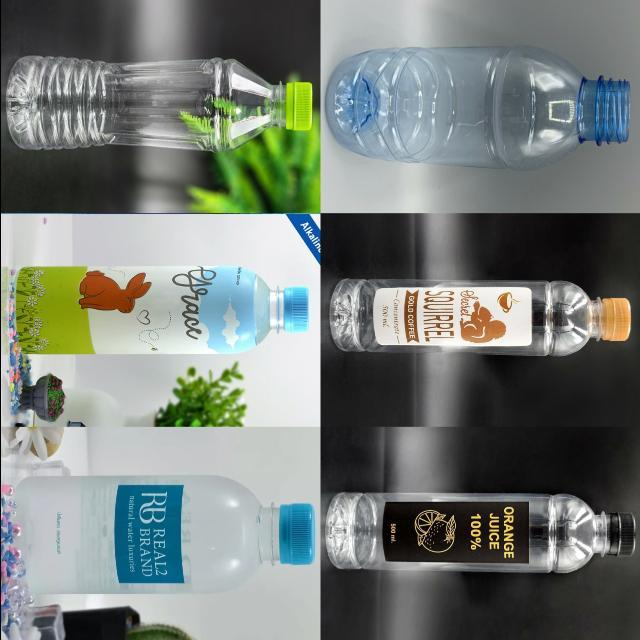PET Bottle: (0, 21, 314, 204), (316, 32, 640, 164), (3, 469, 313, 605), (6, 264, 316, 394), (319, 472, 640, 584), (316, 269, 640, 377)
